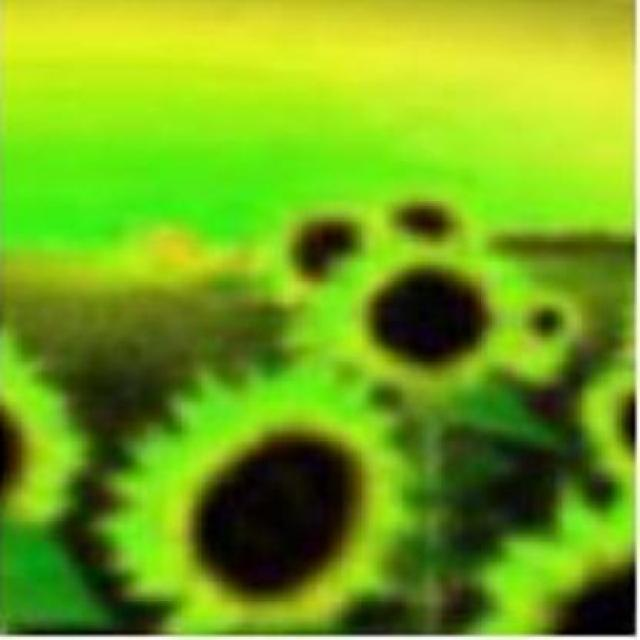sunflower: (97, 366, 395, 631), (316, 243, 527, 392)
